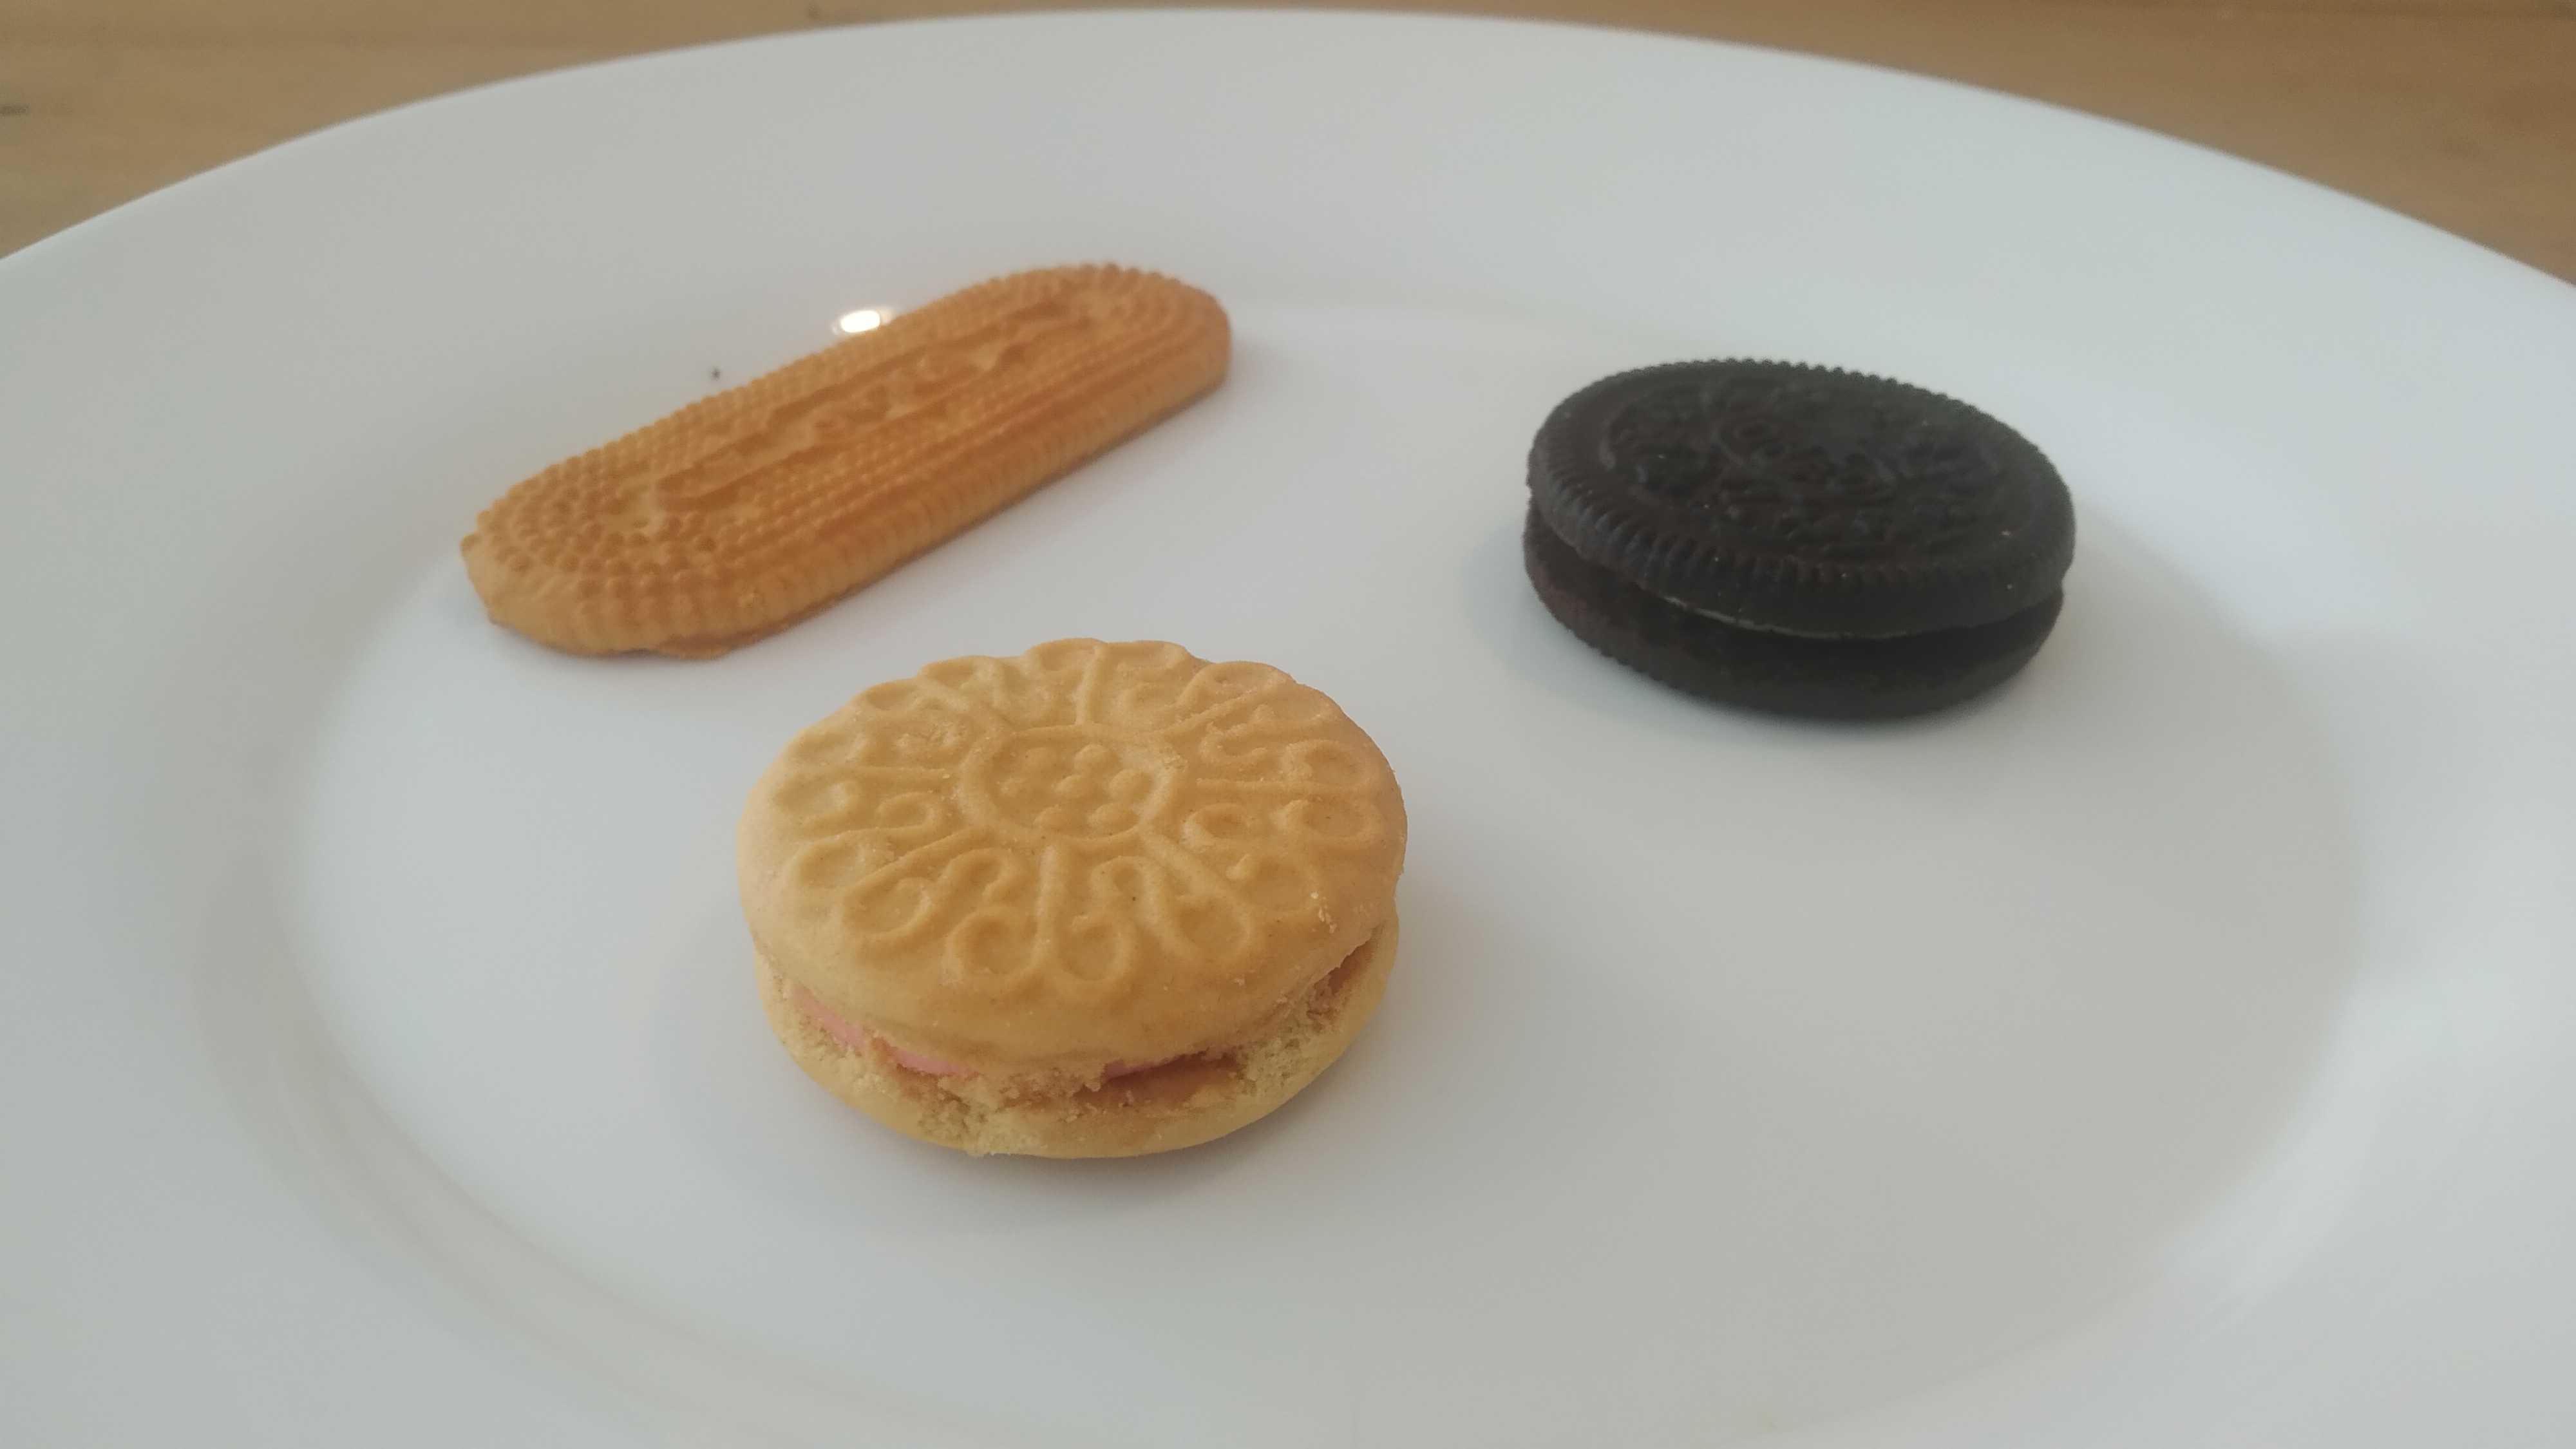lulu: (734, 637, 1410, 1157)
oreo: (1525, 356, 2079, 720)
solar: (460, 262, 1235, 658)
